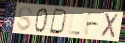0: (34, 7, 50, 34)
D: (49, 8, 69, 36)
F: (82, 11, 104, 37)
L: (68, 10, 81, 36)
S: (15, 6, 34, 32)
X: (100, 13, 120, 40)
